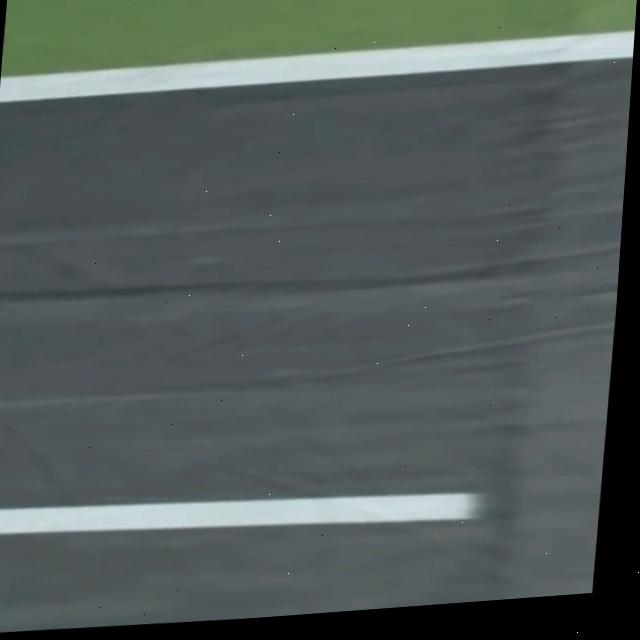center: (0, 493, 481, 535)
right: (0, 31, 635, 102)
